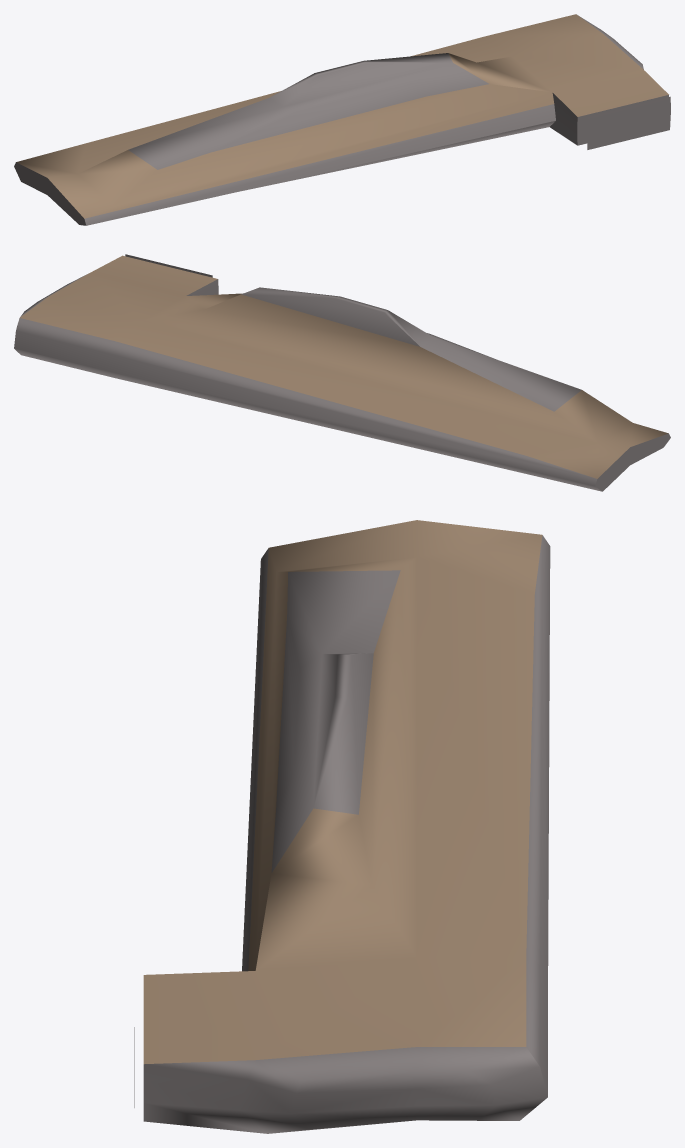
Rendered from Steg_.fbx.
3 renders of one model, top to bottom at view 1: azimuth 30°, elevation 25°; view 2: azimuth 150°, elevation 25°; view 3: azimuth 270°, elevation 25°, orthographic. The views are drawn at different scales.
Visible parts, largest first — view 1: Steg_; view 2: Steg_; view 3: Steg_.
Boxes of the visible parts, x1=… form: Steg_: x1=14, y1=14, x2=670, y2=225; Steg_: x1=14, y1=254, x2=670, y2=491; Steg_: x1=134, y1=520, x2=550, y2=1133.
Size of the model in its own units: 5343 by 830 by 1697.
